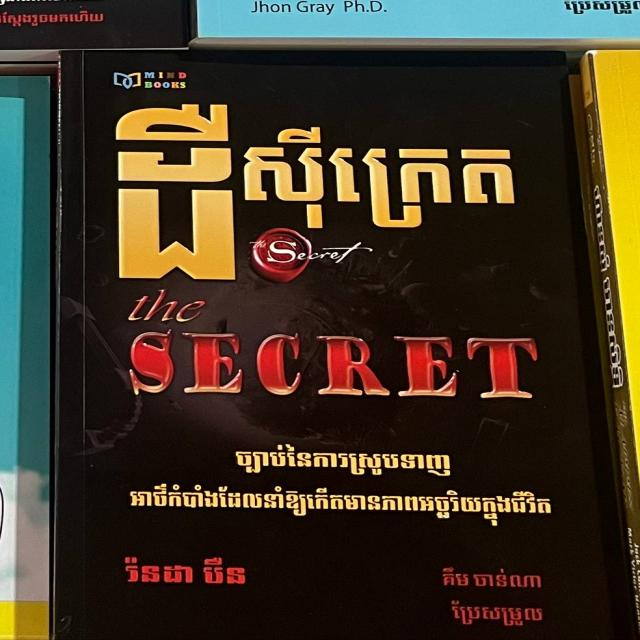1: (118, 552, 251, 590), (437, 562, 547, 590)
Yolov11kh: (111, 102, 524, 284), (122, 482, 556, 526), (226, 438, 455, 478), (446, 596, 551, 630)
